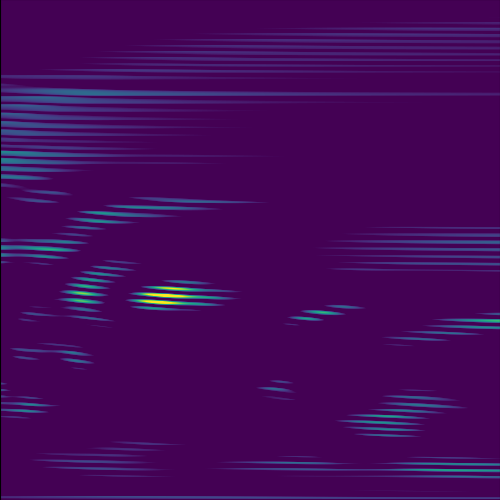semblance: (126, 274, 234, 316)
